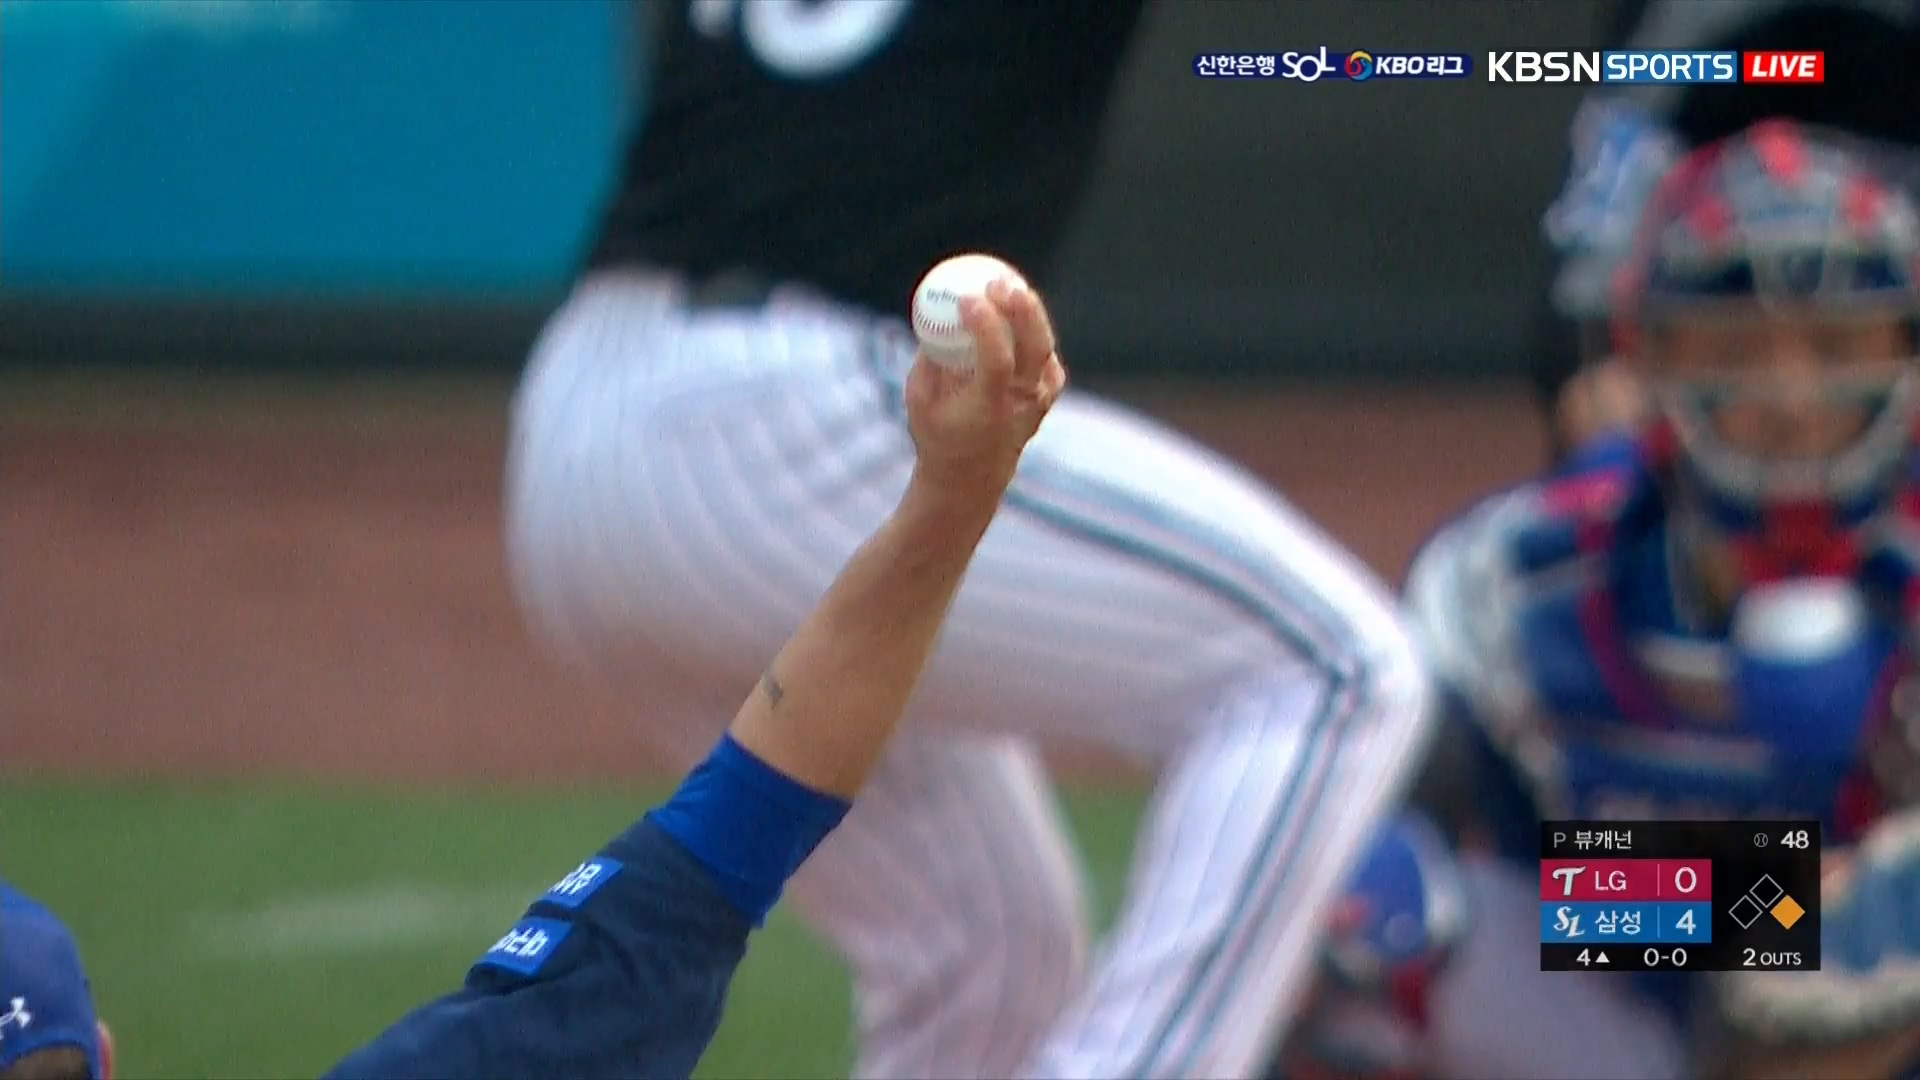zoomin_hand: (688, 248, 1073, 837)
